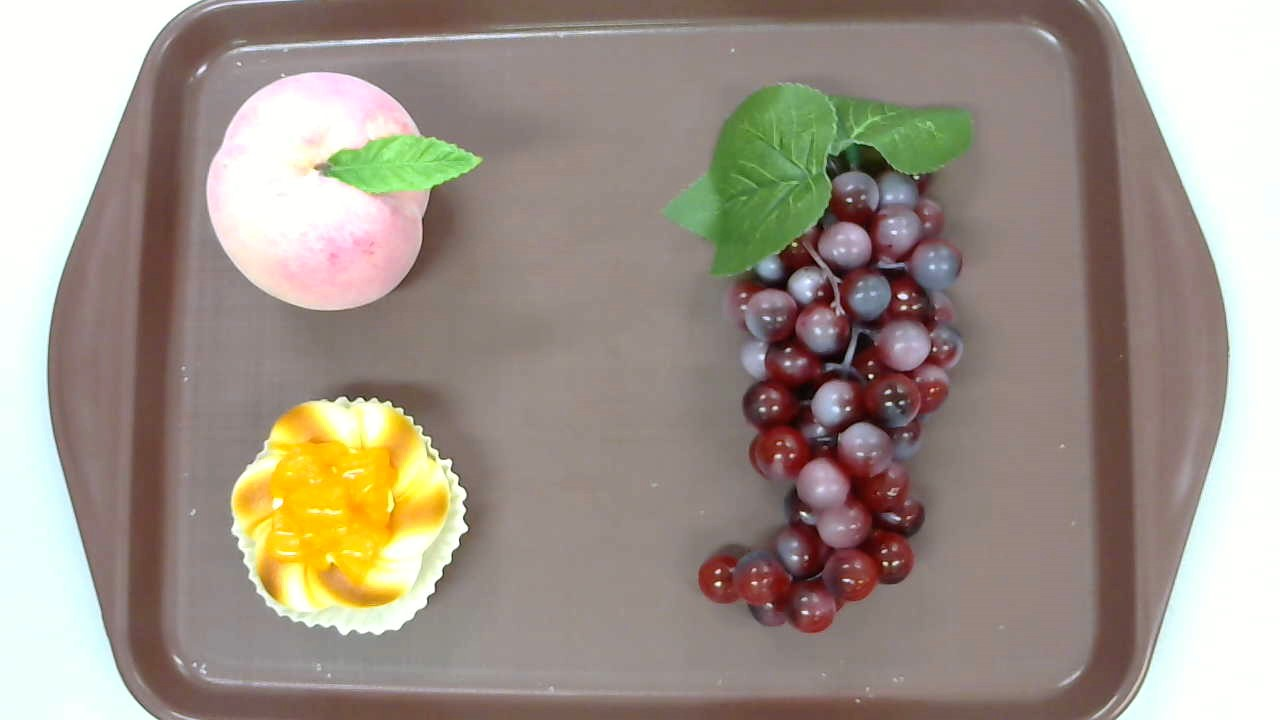grape: (660, 82, 979, 634)
mango tart: (231, 394, 470, 635)
peach: (204, 72, 484, 313)
